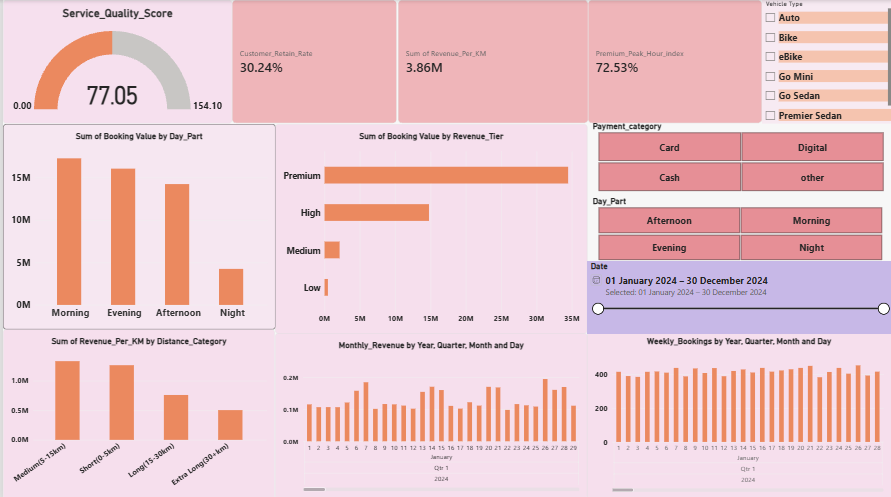

What the dashboard file says about the page in this screenshot:
{"tool":"powerbi","page":{"name":"Summary","canvas":[1920,1080],"ordinal":6},"visuals":[{"type":"gauge","fields":{"Y":["rideBookings.Service_Quality_Score"]},"box":[0,0,495.3,266.9],"z":0},{"type":"cardVisual","fields":{"Data":["rideBookings.Customer_Retain_Rate"]},"box":[495.3,0,357,266.9],"z":1000},{"type":"cardVisual","fields":{"Data":["Sum(rideBookings.Revenue_Per_KM)"]},"box":[852.3,0,411.7,266.9],"z":2000},{"type":"cardVisual","fields":{"Data":["rideBookings.Premium_Peak_Hour_index"]},"box":[1263.9,0,376.3,266.9],"z":3000},{"type":"clusteredColumnChart","fields":{"Category":["rideBookings.Day_Part"],"Y":["Sum(rideBookings.Booking Value)"]},"box":[0,266.9,588.5,443.8],"z":4000},{"type":"clusteredBarChart","fields":{"Category":["rideBookings.Revenue_Tier"],"Y":["Sum(rideBookings.Booking Value)"]},"box":[588.5,266.9,675.4,453.5],"z":5000},{"type":"columnChart","fields":{"Category":["rideBookings.Distance_Category"],"Y":["Sum(rideBookings.Revenue_Per_KM)"]},"box":[0,710.3,587.3,371.5],"z":6000},{"type":"lineStackedColumnComboChart","fields":{"Category":["rideBookings.Date.Variation.Date Hierarchy.Year","rideBookings.Date.Variation.Date Hierarchy.Quarter","rideBookings.Date.Variation.Date Hierarchy.Month","rideBookings.Date.Variation.Date Hierarchy.Day"],"Y":["rideBookings.Monthly_Revenue"]},"box":[587.3,720.3,675.1,358.9],"z":7000},{"type":"lineClusteredColumnComboChart","fields":{"Category":["rideBookings.Date.Variation.Date Hierarchy.Year","rideBookings.Date.Variation.Date Hierarchy.Quarter","rideBookings.Date.Variation.Date Hierarchy.Month","rideBookings.Date.Variation.Date Hierarchy.Day"],"Y":["rideBookings.Weekly_Bookings"]},"box":[1262.4,710.3,657.6,368.9],"z":8000},{"type":"slicer","fields":{"Values":["rideBookings.Date"]},"box":[1261.4,563.8,656.6,155.5],"z":9000},{"type":"slicer","fields":{"Values":["rideBookings.Vehicle Type"]},"box":[1640.2,0,279.8,266.9],"z":10000},{"type":"slicer","fields":{"Values":["rideBookings.Day_Part"]},"box":[1265.8,423.4,652.3,140.4],"z":11000},{"type":"slicer","fields":{"Values":["rideBookings.Payment_category"]},"box":[1264.9,261,655.1,153.1],"z":12000}]}

Visuals, with their boxes in screenshot pixels (x1, y1, x2, y2), scaled from the page's 1920x1080 canvas onto the 891x497 screenshot:
gauge - rideBookings.Service_Quality_Score: [left=0, top=0, right=230, bottom=123]
cardVisual - rideBookings.Customer_Retain_Rate: [left=230, top=0, right=396, bottom=123]
cardVisual - Sum(rideBookings.Revenue_Per_KM): [left=396, top=0, right=587, bottom=123]
cardVisual - rideBookings.Premium_Peak_Hour_index: [left=587, top=0, right=761, bottom=123]
clusteredColumnChart - rideBookings.Day_Part x Sum(rideBookings.Booking Value): [left=0, top=123, right=273, bottom=327]
clusteredBarChart - rideBookings.Revenue_Tier x Sum(rideBookings.Booking Value): [left=273, top=123, right=587, bottom=332]
columnChart - rideBookings.Distance_Category x Sum(rideBookings.Revenue_Per_KM): [left=0, top=327, right=273, bottom=496]
lineStackedColumnComboChart - rideBookings.Date.Variation.Date Hierarchy.Year x rideBookings.Date.Variation.Date Hierarchy.Quarter: [left=273, top=331, right=586, bottom=496]
lineClusteredColumnComboChart - rideBookings.Date.Variation.Date Hierarchy.Year x rideBookings.Date.Variation.Date Hierarchy.Quarter: [left=586, top=327, right=890, bottom=496]
slicer - rideBookings.Date: [left=585, top=259, right=890, bottom=331]
slicer - rideBookings.Vehicle Type: [left=761, top=0, right=890, bottom=123]
slicer - rideBookings.Day_Part: [left=587, top=195, right=890, bottom=259]
slicer - rideBookings.Payment_category: [left=587, top=120, right=890, bottom=191]
